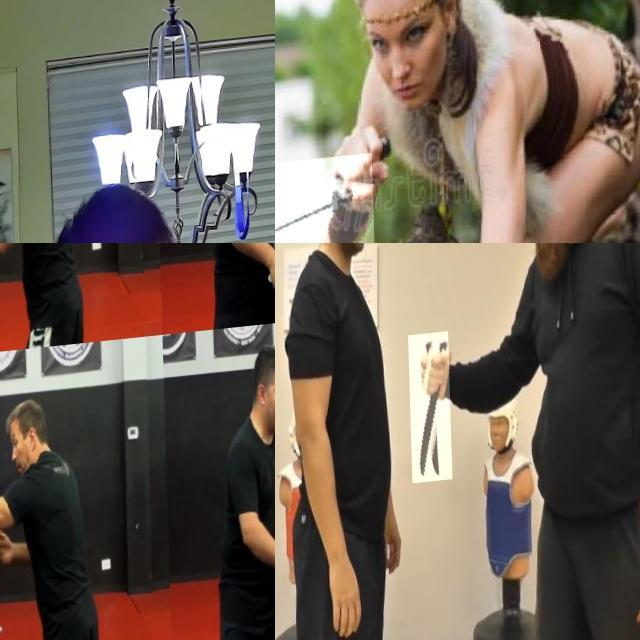-: (275, 159, 375, 243), (406, 338, 449, 490), (0, 282, 27, 321), (0, 616, 26, 640), (263, 270, 275, 299)
